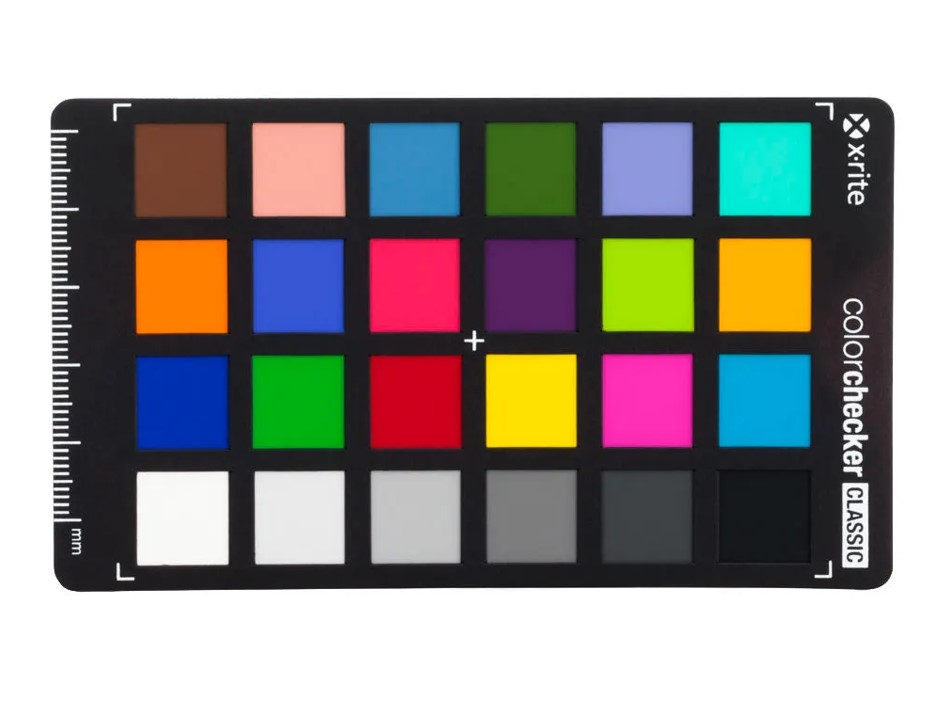ColourChecker: (114, 104, 833, 577)
